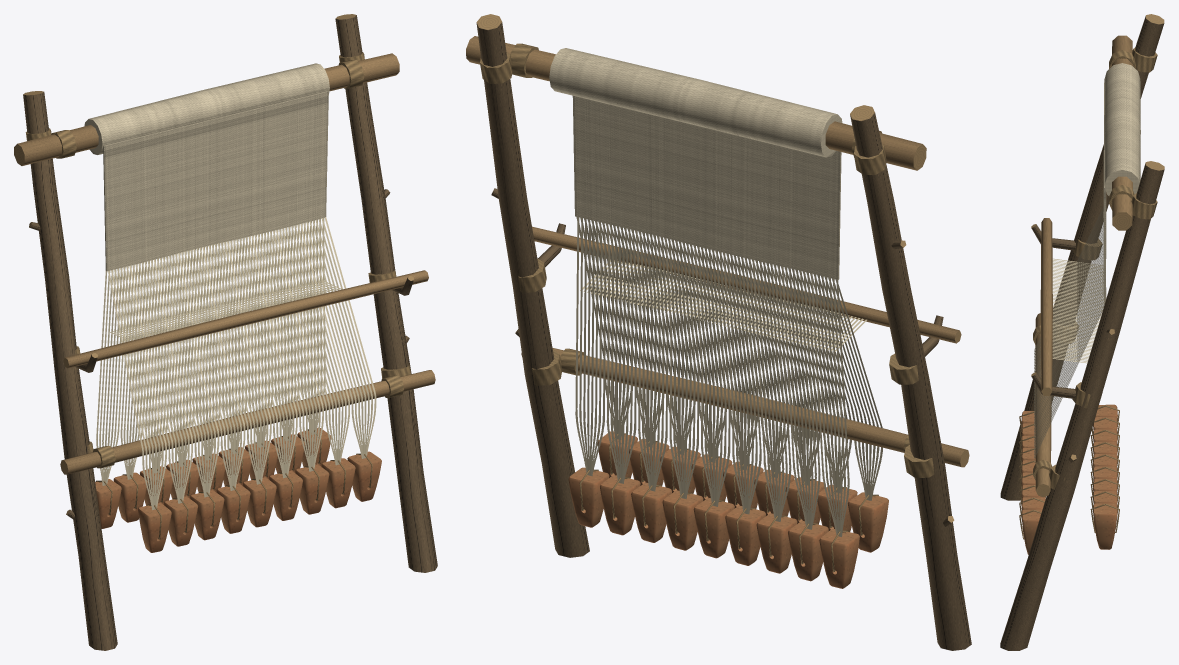
The model's file is loom_weaving_base_up.glb.
The picture shows the model from 3 angles, left to right: view 1: azimuth 30°, elevation 25°; view 2: azimuth 150°, elevation 25°; view 3: azimuth 270°, elevation 25°; orthographic projection. The views are drawn at different scales.
Visible parts, largest first — view 1: warp, frame, cloth, tie_loops, weight_09_front, weight_15_front, weight_11_front, weight_16_front, weight_17_front, weight_10_front, weight_13_front, weight_12_front (+10 smaller); view 2: warp, frame, cloth, tie_loops, weight_00_back, weight_09_front, weight_08_back, weight_04_back, weight_01_back, weight_06_back, weight_03_back, weight_05_back (+10 smaller); view 3: frame, warp, cloth, tie_loops, weight_08_back, weight_17_front, weight_03_back, weight_02_back, weight_05_back, weight_06_back, weight_07_back, weight_01_back (+2 smaller).
Boxes of the visible parts, x1,y1,x2,y2 form: warp: (96,217,376,510); frame: (14,14,437,650); cloth: (84,63,329,271); tie_loops: (95,429,372,539); weight_09_front: (138,503,171,552); weight_15_front: (295,464,329,514); weight_11_front: (190,490,224,540); weight_16_front: (321,458,355,508); weight_17_front: (347,451,381,501); weight_10_front: (164,496,197,546); weight_13_front: (242,477,276,527); weight_12_front: (216,483,250,533); warp: (575,217,882,536); frame: (466,14,971,650); cloth: (549,48,842,279); tie_loops: (579,433,878,572); weight_00_back: (819,529,859,588); weight_09_front: (848,492,888,552); weight_08_back: (568,467,609,527); weight_04_back: (693,498,734,558); weight_01_back: (788,521,828,581); weight_06_back: (631,482,671,542); weight_03_back: (725,505,765,565); weight_05_back: (662,490,703,550); frame: (1000,14,1164,650); warp: (1034,207,1104,460); cloth: (1103,63,1140,304); tie_loops: (1019,405,1119,539); weight_08_back: (1093,503,1117,549); weight_17_front: (1021,509,1042,554); weight_03_back: (1093,441,1117,455); weight_02_back: (1093,429,1117,442); weight_05_back: (1093,466,1117,480); weight_06_back: (1093,478,1117,492); weight_07_back: (1093,491,1117,504); weight_01_back: (1093,417,1117,430).
Bounding box in the file's own units: 1.5 × 1.91 × 0.5916.
3 materials, 3 textured.
